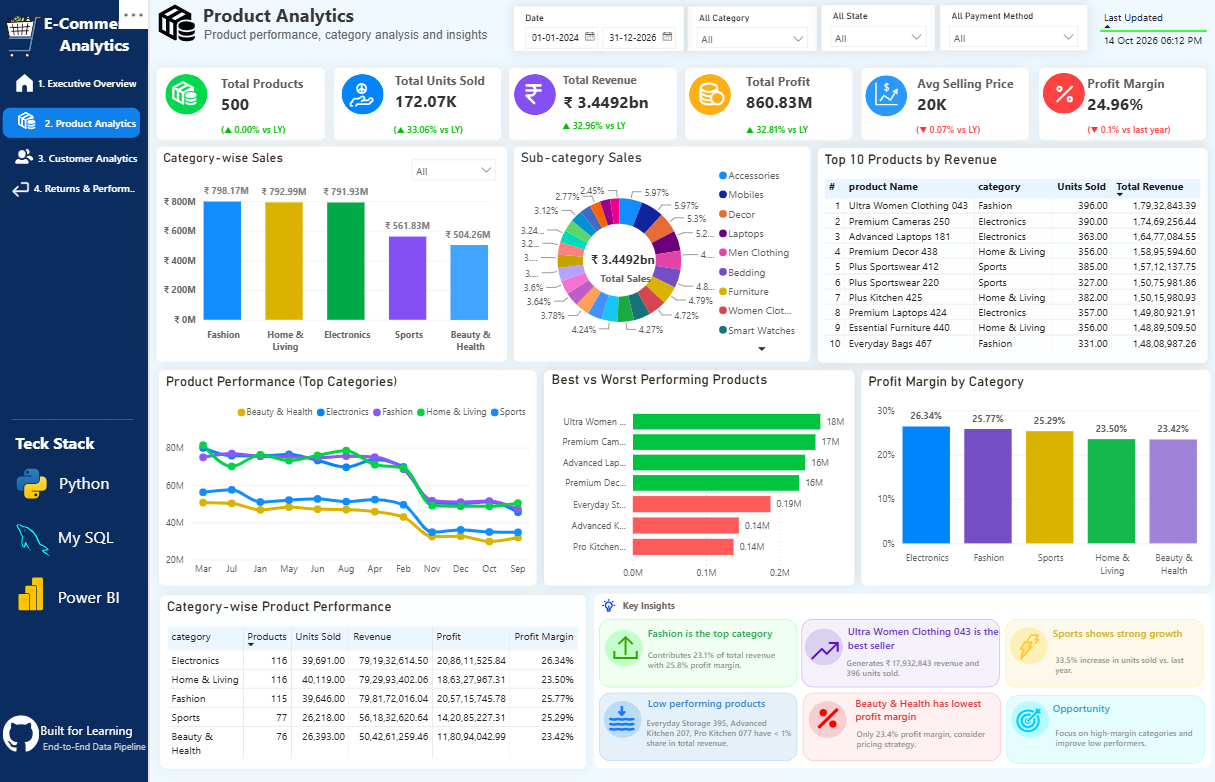

This screenshot's page, from the dashboard's own definition file:
{"tool":"powerbi","page":{"name":"2. Product Analytics","canvas":[1600,1030],"ordinal":1},"visuals":[{"type":"shape","box":[0,0,197,1030],"z":0},{"type":"image","box":[3.3,21.7,58.5,55.1],"z":1000},{"type":"textbox","box":[52.6,12.2,145.5,73.4],"z":2000},{"type":"actionButton","title":"1. Executive Overview","box":[11,87,173,44],"z":3000},{"type":"image","box":[14,98,37,25],"z":4000},{"type":"actionButton","title":"1. Executive Overview","box":[5,142,180,39],"z":5000},{"type":"image","box":[5,146,62,27],"z":6000},{"type":"slicer","fields":{"Values":["products.category"]},"box":[903.7,9.3,169.4,58.3],"z":7000},{"type":"slicer","fields":{"Values":["calendar.date"]},"box":[675,9.3,222.2,58.3],"z":8000},{"type":"tableEx","fields":{"Values":["RefreshInfo.Last Updated Text"]},"box":[1437,8,163,65],"z":9000},{"type":"slicer","fields":{"Values":["customers.state"]},"box":[1078.7,8.3,149.1,60.2],"z":10000},{"type":"slicer","fields":{"Values":["orders.payment_method"]},"box":[1235.2,8.3,192.6,59.3],"z":11000},{"type":"actionButton","title":"1. Executive Overview","box":[6,189,179,39],"z":12000},{"type":"actionButton","title":"1. Executive Overview","box":[4,228,179,39],"z":13000},{"type":"image","box":[11,187,44,39],"z":14000},{"type":"shape","box":[438.8,89.6,219.4,95.5],"z":15000},{"type":"shape","box":[1364.2,89.6,219.4,95.5],"z":16000},{"type":"shape","box":[1131.3,89.6,219.4,95.5],"z":17000},{"type":"shape","box":[900,89.6,219.4,95.5],"z":18000},{"type":"shape","box":[668.7,89.6,220,95],"z":19000},{"type":"shape","box":[206,89.6,220.9,95.5],"z":20000},{"type":"textbox","box":[255.2,0,358.6,63.8],"z":21000},{"type":"textbox","box":[263.8,32.8,391.4,36.2],"z":22000},{"type":"textbox","box":[11,522,181,41],"z":23000},{"type":"image","box":[17.7,612.9,50,45.2],"z":24000},{"type":"image","box":[20.3,681.2,50,56],"z":25000},{"type":"image","box":[17.2,757.8,50,45.3],"z":26000},{"type":"textbox","box":[73,615,99,39],"z":27000},{"type":"textbox","box":[72.4,685.5,100.1,38.5],"z":28000},{"type":"textbox","box":[72.4,764,100.1,38.5],"z":29000},{"type":"textbox","box":[17.2,562.5,139.1,39.1],"z":30000},{"type":"shape","box":[217.4,98.9,55.4,53.3],"z":31000},{"type":"shape","box":[1136.8,100.1,55,54],"z":32000},{"type":"shape","box":[904.2,98.6,55,54],"z":33000},{"type":"shape","box":[674.7,98.6,55,54],"z":34000},{"type":"shape","box":[448.9,98.9,55.4,53.3],"z":35000},{"type":"shape","box":[1369.4,97,55.5,53.9],"z":36000},{"type":"image","box":[674.7,104.7,50,40],"z":37000},{"type":"cardVisual","title":"Total Revenue","fields":{"Data":["orders.Total Revenue"]},"box":[711.9,101.5,240.3,64.2],"z":38000},{"type":"cardVisual","fields":{"Data":["orders.Revenue VS LY"]},"box":[710.1,141.7,178.7,47.8],"z":39000},{"type":"textbox","box":[734.3,89.6,149.4,35.4],"z":40000},{"type":"image","box":[5.4,932.1,48.2,60.7],"z":41000},{"type":"textbox","box":[50,942.9,142.9,41.1],"z":42000},{"type":"textbox","box":[51.8,966.1,167.9,33.9],"z":43000},{"type":"image","box":[917.3,107.7,34,33],"z":44000},{"type":"cardVisual","fields":{"Data":["products.Total Products"]},"box":[262.7,80.6,185.2,90.9],"z":45000},{"type":"cardVisual","fields":{"Data":["products.Products VS LY"]},"box":[262.4,138.9,178.4,60],"z":46000},{"type":"cardVisual","fields":{"Data":["orders.Total Units Sold"]},"box":[489.6,76.1,185.2,90.9],"z":47000},{"type":"cardVisual","fields":{"Data":["orders.Units Sold VS LY"]},"box":[488.9,138.9,178.4,60],"z":48000},{"type":"cardVisual","fields":{"Data":["orders.Total Profit"]},"box":[950.7,77.6,185.2,90.9],"z":49000},{"type":"cardVisual","fields":{"Data":["orders.Profit VS LY"]},"box":[950.7,138.8,178.4,60],"z":50000},{"type":"cardVisual","fields":{"Data":["orders.Avg Selling Price"]},"box":[1175,80.6,185.2,90.9],"z":51000},{"type":"cardVisual","fields":{"Data":["orders.Avg Selling Price VS LY"]},"box":[1173.2,138.9,178.4,60],"z":52000},{"type":"cardVisual","fields":{"Data":["orders.Profit Margin %"]},"box":[1397.9,80.6,185.2,90.9],"z":53000},{"type":"cardVisual","fields":{"Data":["orders.Profit Margin VS LY"]},"box":[1397.9,138.9,178.4,60],"z":54000},{"type":"clusteredColumnChart","title":"Category-wise Sales","fields":{"Category":["products.category"],"Y":["orders.Total Revenue"]},"box":[206.5,193.5,459.7,282.3],"z":55000},{"type":"slicer","fields":{"Values":["calendar.Year"]},"box":[531.7,200.7,130.4,48.5],"z":56000},{"type":"donutChart","title":"Sub-category Sales","fields":{"Category":["products.sub_category"],"Y":["orders.Total Revenue"]},"box":[675.8,193.5,389,282.3],"z":57000},{"type":"textbox","box":[784,351.9,95.2,35.7],"z":58000},{"type":"cardVisual","fields":{"Data":["orders.Total Revenue"]},"box":[748.1,309.9,169,60.7],"z":59000},{"type":"tableEx","title":"Top 10 Products by Revenue","fields":{"Values":["select","products.product_name","products.category","orders.Total Units Sold","orders.Total Revenue"]},"box":[1074.2,195.2,511.3,282.3],"z":60000},{"type":"lineChart","title":"Product Performance (Top Categories)","fields":{"Y":["orders.Total Revenue"],"Series":["products.category"],"Category":["calendar.Month Name"]},"box":[209.7,487.1,495,282],"z":61000},{"type":"shape","box":[714.3,487.5,407.1,282.1],"z":62000},{"type":"clusteredBarChart","title":"Best vs Worst Performing Products","fields":{"Category":["products.product_name"],"Y":["orders.Total Revenue"]},"box":[719.6,489.3,394.6,173],"z":63000},{"type":"clusteredColumnChart","title":"Profit Margin  by Category","fields":{"Y":["orders.Profit Margin %"],"Category":["products.category"]},"box":[1130.4,487.5,457.7,282],"z":64000},{"type":"clusteredBarChart","fields":{"Category":["products.product_name"],"Y":["orders.Total Revenue"]},"box":[733.9,628.6,337.5,142.9],"z":65000},{"type":"tableEx","title":"Category-wise Product Performance","fields":{"Values":["products.category","products.Total Products","orders.Total Units Sold","orders.Total Revenue","orders.Total Profit","orders.Profit Margin %"]},"box":[211.3,782.3,558.1,227.4],"z":66000},{"type":"image","box":[198.3,3.4,69,56.9],"z":67000},{"type":"shape","box":[780.8,780.8,809,227.9],"z":68000},{"type":"image","box":[17,237,24,24],"z":69000},{"type":"image","box":[1379.8,107.7,34,33],"z":70000},{"type":"image","box":[1149,110.6,29.8,29.8],"z":71000},{"type":"image","box":[451,105.8,50,38.1],"z":72000},{"type":"cardVisual","fields":{"Data":["orders.Insight 1 Heading"]},"box":[786.5,813.5,260,89.4],"z":73000},{"type":"cardVisual","fields":{"Data":["orders.Insight 1 Description"]},"box":[845.4,844.4,195.2,55.8],"z":74000},{"type":"image","box":[785.6,784.6,28.8,20.2],"z":75000},{"type":"textbox","box":[812.5,779.8,90.4,31.7],"z":76000},{"type":"shape","box":[792.6,825,55.6,53.7],"z":77000},{"type":"image","box":[804.6,832.4,33.3,34.3],"z":78000},{"type":"cardVisual","fields":{"Data":["orders.Insight 1 Heading"]},"box":[1322.1,912.5,260,89.4],"z":79000},{"type":"cardVisual","fields":{"Data":["orders.Insight 1 Heading"]},"box":[1054.8,910.6,260,89.4],"z":80000},{"type":"cardVisual","fields":{"Data":["orders.Insight 1 Heading"]},"box":[787.5,910.6,260,89.4],"z":81000},{"type":"cardVisual","fields":{"Data":["orders.Insight 1 Heading"]},"box":[1052.9,813.5,260,89.4],"z":82000},{"type":"cardVisual","fields":{"Data":["orders.Insight 1 Heading"]},"box":[1319.2,813.5,260,89.4],"z":83000},{"type":"cardVisual","fields":{"Data":["orders.Insight 1 Heading"]},"box":[845.4,813.9,195.4,61.1],"z":84000},{"type":"image","box":[220.4,104.6,46.3,38],"z":85000},{"type":"cardVisual","fields":{"Data":["orders.Insight 6 Heading"]},"box":[1377.8,912,195.4,61.1],"z":86000},{"type":"cardVisual","fields":{"Data":["orders.Insight 3 Heading"]},"box":[1377.8,813.9,215.7,61.1],"z":87000},{"type":"cardVisual","fields":{"Data":["orders.Insight 5 Heading"]},"box":[1118.5,904.6,205.6,61.1],"z":88000},{"type":"cardVisual","fields":{"Data":["orders.Insight 4 Heading"]},"box":[846.3,904.6,195.4,61.1],"z":89000},{"type":"cardVisual","fields":{"Data":["orders.Insight 2 Heading"]},"box":[1108.3,811.1,211.1,61.1],"z":90000},{"type":"shape","box":[1324.1,917.6,55.6,53.7],"z":91000},{"type":"shape","box":[1059.3,917.6,55.6,53.7],"z":92000},{"type":"shape","box":[789.8,917.6,55.6,53.7],"z":93000},{"type":"shape","box":[1322.2,821.3,55.6,53.7],"z":94000},{"type":"shape","box":[1054.6,823.1,55.6,53.7],"z":95000},{"type":"cardVisual","fields":{"Data":["orders.Insight 5 Description"]},"box":[1119.4,948.1,195.2,55.8],"z":96000},{"type":"cardVisual","fields":{"Data":["orders.Insight 4 Description"]},"box":[844.4,933.3,203.7,69.4],"z":97000},{"type":"cardVisual","fields":{"Data":["orders.Insight 3 Description"]},"box":[1381,850,195.2,55.8],"z":98000},{"type":"cardVisual","fields":{"Data":["orders.Insight 2 Description"]},"box":[1106.5,854.6,195.2,55.8],"z":99000},{"type":"cardVisual","fields":{"Data":["orders.Insight 6 Description"]},"box":[1379.6,945.4,195.2,55.8],"z":100000},{"type":"image","box":[1333.3,928.7,33.3,34.3],"z":101000},{"type":"image","box":[800,925.9,33.3,34.3],"z":102000},{"type":"image","box":[1334.3,833.3,33.3,34.3],"z":103000},{"type":"image","box":[1071.3,926.9,33.3,34.3],"z":104000},{"type":"image","box":[1060.2,832.4,44.4,41.7],"z":105000}]}

Visuals, with their boxes on the page's 1600x1030 design canvas (x1, y1, x2, y2). These are canvas units, not pixel positions in the 1215x782 screenshot, which may show the page scaled, cropped or inside an application window:
shape: {"x1": 0, "y1": 0, "x2": 197, "y2": 1030}
image: {"x1": 3, "y1": 22, "x2": 62, "y2": 77}
textbox: {"x1": 53, "y1": 12, "x2": 198, "y2": 86}
"1. Executive Overview" actionButton: {"x1": 11, "y1": 87, "x2": 184, "y2": 131}
image: {"x1": 14, "y1": 98, "x2": 51, "y2": 123}
"1. Executive Overview" actionButton: {"x1": 5, "y1": 142, "x2": 185, "y2": 181}
image: {"x1": 5, "y1": 146, "x2": 67, "y2": 173}
slicer - products.category: {"x1": 904, "y1": 9, "x2": 1073, "y2": 68}
slicer - calendar.date: {"x1": 675, "y1": 9, "x2": 897, "y2": 68}
tableEx - RefreshInfo.Last Updated Text: {"x1": 1437, "y1": 8, "x2": 1600, "y2": 73}
slicer - customers.state: {"x1": 1079, "y1": 8, "x2": 1228, "y2": 68}
slicer - orders.payment_method: {"x1": 1235, "y1": 8, "x2": 1428, "y2": 68}
"1. Executive Overview" actionButton: {"x1": 6, "y1": 189, "x2": 185, "y2": 228}
"1. Executive Overview" actionButton: {"x1": 4, "y1": 228, "x2": 183, "y2": 267}
image: {"x1": 11, "y1": 187, "x2": 55, "y2": 226}
shape: {"x1": 439, "y1": 90, "x2": 658, "y2": 185}
shape: {"x1": 1364, "y1": 90, "x2": 1584, "y2": 185}
shape: {"x1": 1131, "y1": 90, "x2": 1351, "y2": 185}
shape: {"x1": 900, "y1": 90, "x2": 1119, "y2": 185}
shape: {"x1": 669, "y1": 90, "x2": 889, "y2": 185}
shape: {"x1": 206, "y1": 90, "x2": 427, "y2": 185}
textbox: {"x1": 255, "y1": 0, "x2": 614, "y2": 64}
textbox: {"x1": 264, "y1": 33, "x2": 655, "y2": 69}
textbox: {"x1": 11, "y1": 522, "x2": 192, "y2": 563}
image: {"x1": 18, "y1": 613, "x2": 68, "y2": 658}
image: {"x1": 20, "y1": 681, "x2": 70, "y2": 737}
image: {"x1": 17, "y1": 758, "x2": 67, "y2": 803}
textbox: {"x1": 73, "y1": 615, "x2": 172, "y2": 654}
textbox: {"x1": 72, "y1": 686, "x2": 172, "y2": 724}
textbox: {"x1": 72, "y1": 764, "x2": 172, "y2": 802}
textbox: {"x1": 17, "y1": 562, "x2": 156, "y2": 602}
shape: {"x1": 217, "y1": 99, "x2": 273, "y2": 152}
shape: {"x1": 1137, "y1": 100, "x2": 1192, "y2": 154}
shape: {"x1": 904, "y1": 99, "x2": 959, "y2": 153}
shape: {"x1": 675, "y1": 99, "x2": 730, "y2": 153}
shape: {"x1": 449, "y1": 99, "x2": 504, "y2": 152}
shape: {"x1": 1369, "y1": 97, "x2": 1425, "y2": 151}
image: {"x1": 675, "y1": 105, "x2": 725, "y2": 145}
"Total Revenue" cardVisual: {"x1": 712, "y1": 102, "x2": 952, "y2": 166}
cardVisual - orders.Revenue VS LY: {"x1": 710, "y1": 142, "x2": 889, "y2": 190}
textbox: {"x1": 734, "y1": 90, "x2": 884, "y2": 125}
image: {"x1": 5, "y1": 932, "x2": 54, "y2": 993}
textbox: {"x1": 50, "y1": 943, "x2": 193, "y2": 984}
textbox: {"x1": 52, "y1": 966, "x2": 220, "y2": 1000}
image: {"x1": 917, "y1": 108, "x2": 951, "y2": 141}
cardVisual - products.Total Products: {"x1": 263, "y1": 81, "x2": 448, "y2": 172}
cardVisual - products.Products VS LY: {"x1": 262, "y1": 139, "x2": 441, "y2": 199}
cardVisual - orders.Total Units Sold: {"x1": 490, "y1": 76, "x2": 675, "y2": 167}
cardVisual - orders.Units Sold VS LY: {"x1": 489, "y1": 139, "x2": 667, "y2": 199}
cardVisual - orders.Total Profit: {"x1": 951, "y1": 78, "x2": 1136, "y2": 168}
cardVisual - orders.Profit VS LY: {"x1": 951, "y1": 139, "x2": 1129, "y2": 199}
cardVisual - orders.Avg Selling Price: {"x1": 1175, "y1": 81, "x2": 1360, "y2": 172}
cardVisual - orders.Avg Selling Price VS LY: {"x1": 1173, "y1": 139, "x2": 1352, "y2": 199}
cardVisual - orders.Profit Margin %: {"x1": 1398, "y1": 81, "x2": 1583, "y2": 172}
cardVisual - orders.Profit Margin VS LY: {"x1": 1398, "y1": 139, "x2": 1576, "y2": 199}
"Category-wise Sales" clusteredColumnChart: {"x1": 206, "y1": 194, "x2": 666, "y2": 476}
slicer - calendar.Year: {"x1": 532, "y1": 201, "x2": 662, "y2": 249}
"Sub-category Sales" donutChart: {"x1": 676, "y1": 194, "x2": 1065, "y2": 476}
textbox: {"x1": 784, "y1": 352, "x2": 879, "y2": 388}
cardVisual - orders.Total Revenue: {"x1": 748, "y1": 310, "x2": 917, "y2": 371}
"Top 10 Products by Revenue" tableEx: {"x1": 1074, "y1": 195, "x2": 1586, "y2": 478}
"Product Performance (Top Categories)" lineChart: {"x1": 210, "y1": 487, "x2": 705, "y2": 769}
shape: {"x1": 714, "y1": 488, "x2": 1121, "y2": 770}
"Best vs Worst Performing Products" clusteredBarChart: {"x1": 720, "y1": 489, "x2": 1114, "y2": 662}
"Profit Margin  by Category" clusteredColumnChart: {"x1": 1130, "y1": 488, "x2": 1588, "y2": 770}
clusteredBarChart - products.product_name x orders.Total Revenue: {"x1": 734, "y1": 629, "x2": 1071, "y2": 772}
"Category-wise Product Performance" tableEx: {"x1": 211, "y1": 782, "x2": 769, "y2": 1010}
image: {"x1": 198, "y1": 3, "x2": 267, "y2": 60}
shape: {"x1": 781, "y1": 781, "x2": 1590, "y2": 1009}
image: {"x1": 17, "y1": 237, "x2": 41, "y2": 261}
image: {"x1": 1380, "y1": 108, "x2": 1414, "y2": 141}
image: {"x1": 1149, "y1": 111, "x2": 1179, "y2": 140}
image: {"x1": 451, "y1": 106, "x2": 501, "y2": 144}
cardVisual - orders.Insight 1 Heading: {"x1": 786, "y1": 814, "x2": 1046, "y2": 903}
cardVisual - orders.Insight 1 Description: {"x1": 845, "y1": 844, "x2": 1041, "y2": 900}
image: {"x1": 786, "y1": 785, "x2": 814, "y2": 805}
textbox: {"x1": 812, "y1": 780, "x2": 903, "y2": 812}
shape: {"x1": 793, "y1": 825, "x2": 848, "y2": 879}
image: {"x1": 805, "y1": 832, "x2": 838, "y2": 867}
cardVisual - orders.Insight 1 Heading: {"x1": 1322, "y1": 912, "x2": 1582, "y2": 1002}
cardVisual - orders.Insight 1 Heading: {"x1": 1055, "y1": 911, "x2": 1315, "y2": 1000}
cardVisual - orders.Insight 1 Heading: {"x1": 788, "y1": 911, "x2": 1048, "y2": 1000}
cardVisual - orders.Insight 1 Heading: {"x1": 1053, "y1": 814, "x2": 1313, "y2": 903}
cardVisual - orders.Insight 1 Heading: {"x1": 1319, "y1": 814, "x2": 1579, "y2": 903}
cardVisual - orders.Insight 1 Heading: {"x1": 845, "y1": 814, "x2": 1041, "y2": 875}
image: {"x1": 220, "y1": 105, "x2": 267, "y2": 143}
cardVisual - orders.Insight 6 Heading: {"x1": 1378, "y1": 912, "x2": 1573, "y2": 973}
cardVisual - orders.Insight 3 Heading: {"x1": 1378, "y1": 814, "x2": 1594, "y2": 875}
cardVisual - orders.Insight 5 Heading: {"x1": 1118, "y1": 905, "x2": 1324, "y2": 966}
cardVisual - orders.Insight 4 Heading: {"x1": 846, "y1": 905, "x2": 1042, "y2": 966}
cardVisual - orders.Insight 2 Heading: {"x1": 1108, "y1": 811, "x2": 1319, "y2": 872}
shape: {"x1": 1324, "y1": 918, "x2": 1380, "y2": 971}
shape: {"x1": 1059, "y1": 918, "x2": 1115, "y2": 971}
shape: {"x1": 790, "y1": 918, "x2": 845, "y2": 971}
shape: {"x1": 1322, "y1": 821, "x2": 1378, "y2": 875}
shape: {"x1": 1055, "y1": 823, "x2": 1110, "y2": 877}
cardVisual - orders.Insight 5 Description: {"x1": 1119, "y1": 948, "x2": 1315, "y2": 1004}
cardVisual - orders.Insight 4 Description: {"x1": 844, "y1": 933, "x2": 1048, "y2": 1003}
cardVisual - orders.Insight 3 Description: {"x1": 1381, "y1": 850, "x2": 1576, "y2": 906}
cardVisual - orders.Insight 2 Description: {"x1": 1106, "y1": 855, "x2": 1302, "y2": 910}
cardVisual - orders.Insight 6 Description: {"x1": 1380, "y1": 945, "x2": 1575, "y2": 1001}
image: {"x1": 1333, "y1": 929, "x2": 1367, "y2": 963}
image: {"x1": 800, "y1": 926, "x2": 833, "y2": 960}
image: {"x1": 1334, "y1": 833, "x2": 1368, "y2": 868}
image: {"x1": 1071, "y1": 927, "x2": 1105, "y2": 961}
image: {"x1": 1060, "y1": 832, "x2": 1105, "y2": 874}
